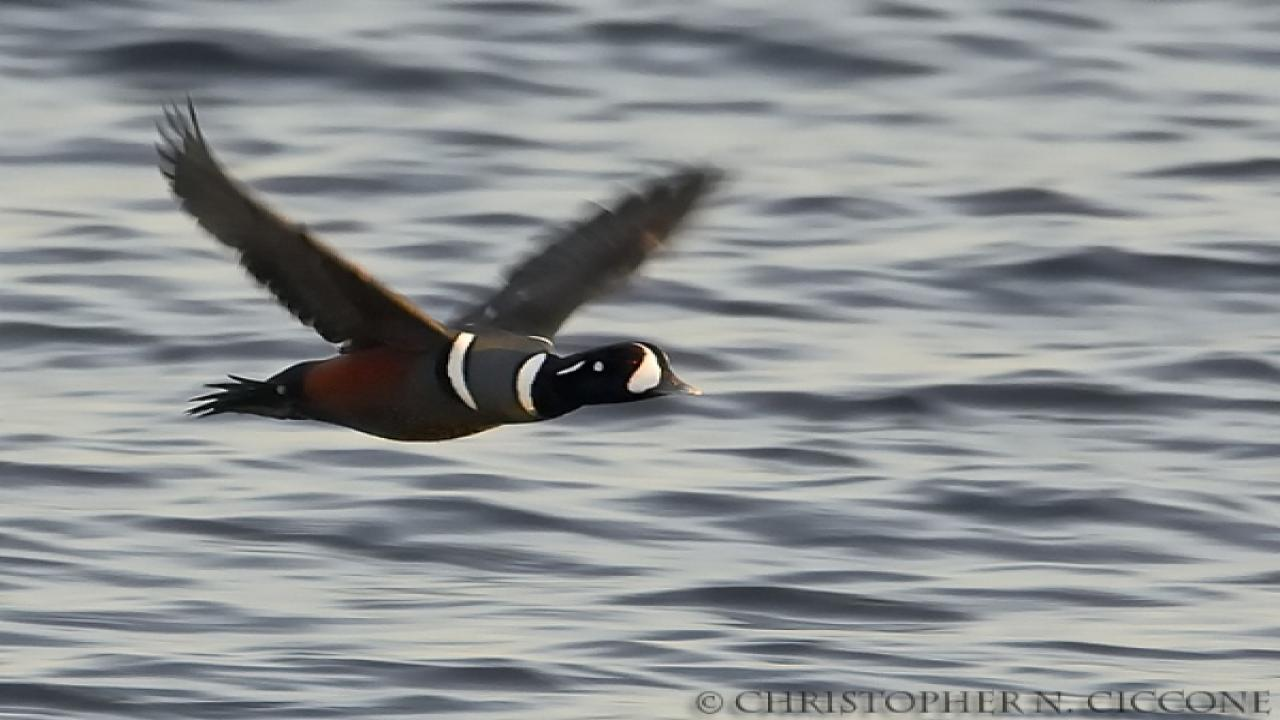Bird: (132, 80, 759, 454)
